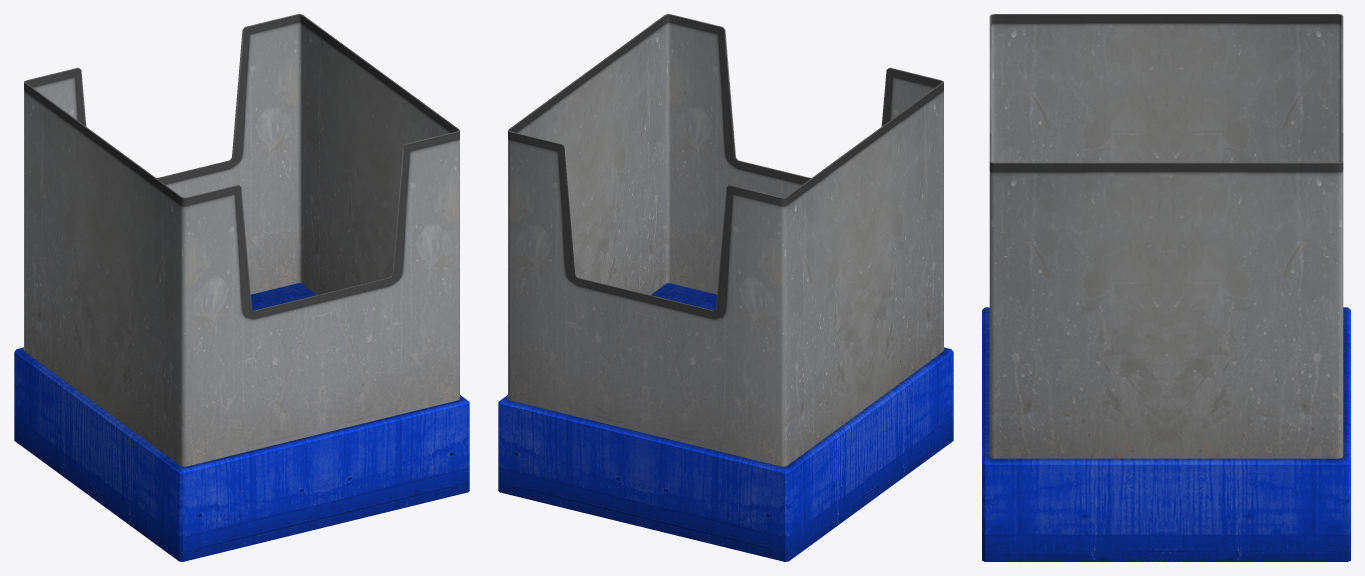
File: bin_blue.dae
3 renders of one model, left to right at view 1: azimuth 30°, elevation 25°; view 2: azimuth 150°, elevation 25°; view 3: azimuth 270°, elevation 25°, orthographic. The views are drawn at different scales.
Parts seen in each view (by area): view 1: Bin; view 2: Bin; view 3: Bin.
Part boxes in pixels (x1,y1,x2,y2): Bin: (14,14,469,561); Bin: (498,14,953,561); Bin: (982,14,1350,561).
Size of the model in its own units: 668 by 668 by 791.
